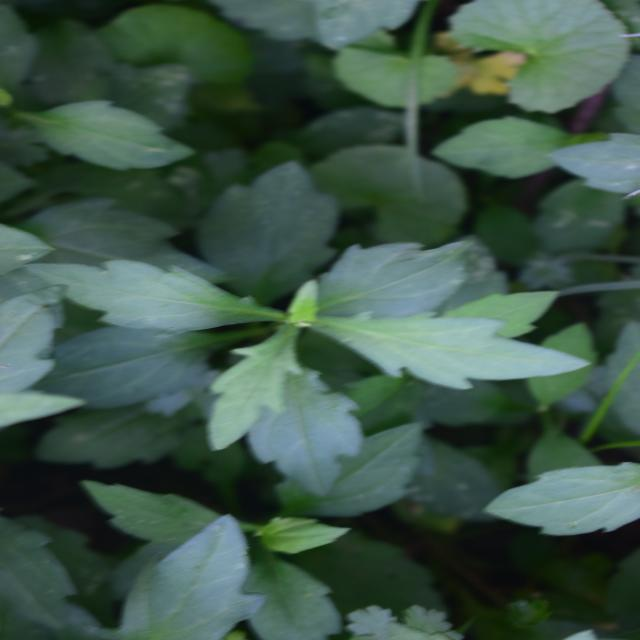Indian aster: (191, 48, 430, 542)
